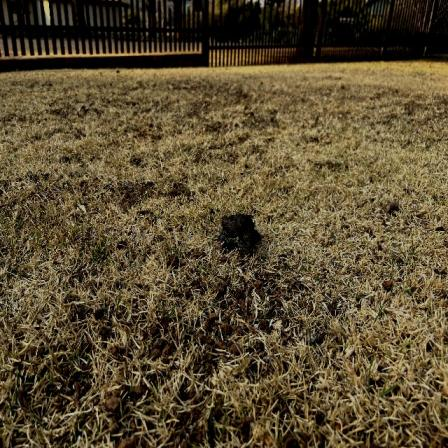dog-poop: (213, 207, 264, 260)
